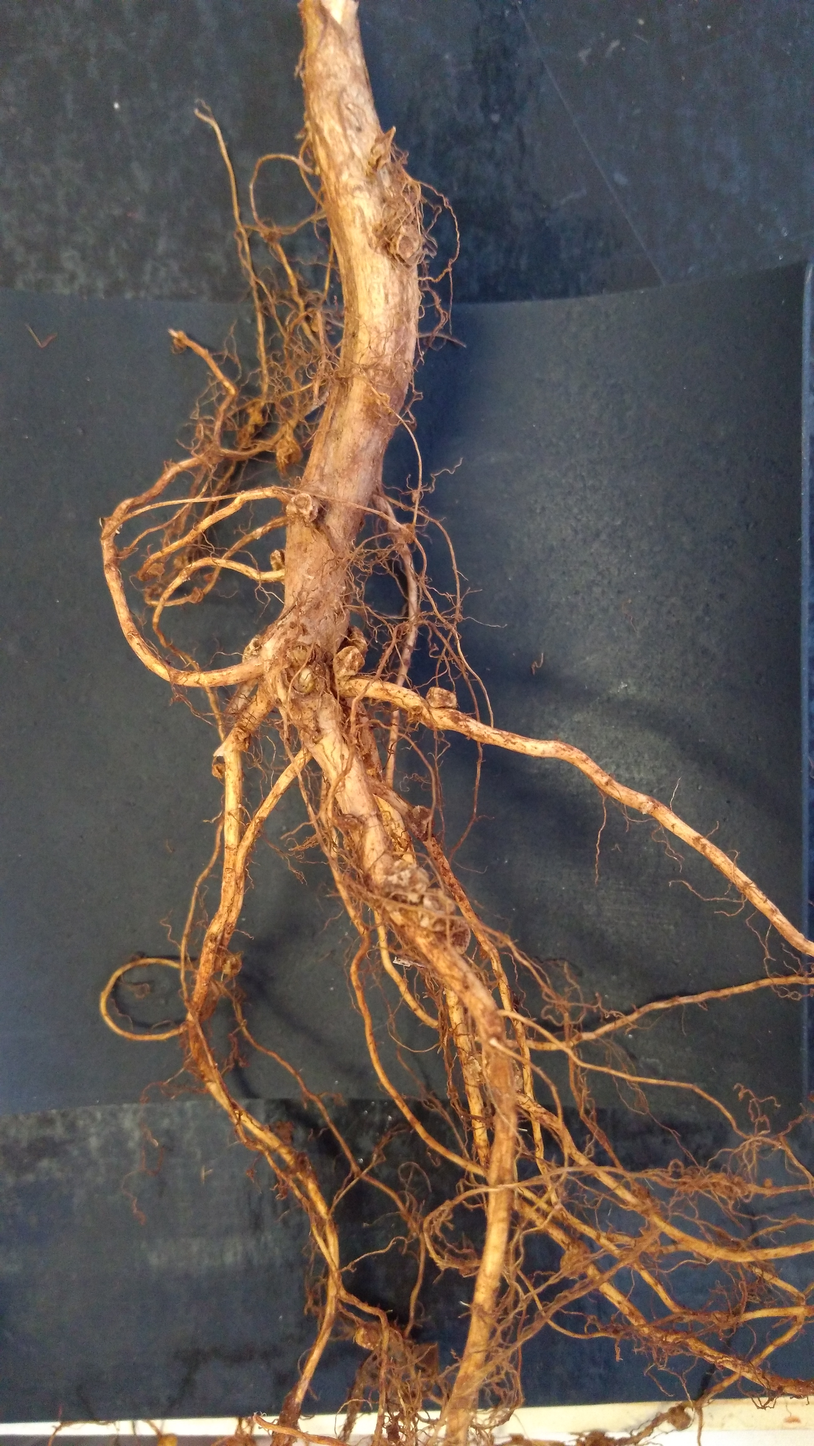nodule: (375, 858, 434, 903), (414, 886, 458, 935), (328, 642, 372, 686), (481, 1054, 525, 1098), (351, 1320, 403, 1355), (282, 491, 325, 529), (339, 623, 376, 662), (559, 1237, 592, 1280), (274, 435, 304, 475), (388, 224, 420, 260), (422, 683, 460, 712), (407, 805, 435, 843), (450, 915, 475, 955), (239, 632, 263, 665), (266, 544, 290, 574), (665, 1406, 693, 1430), (295, 667, 317, 695), (230, 729, 250, 757), (220, 955, 243, 976), (398, 521, 416, 545), (209, 761, 227, 781), (173, 328, 189, 348), (146, 562, 165, 576), (190, 585, 204, 603), (174, 554, 190, 568), (203, 571, 213, 583)
